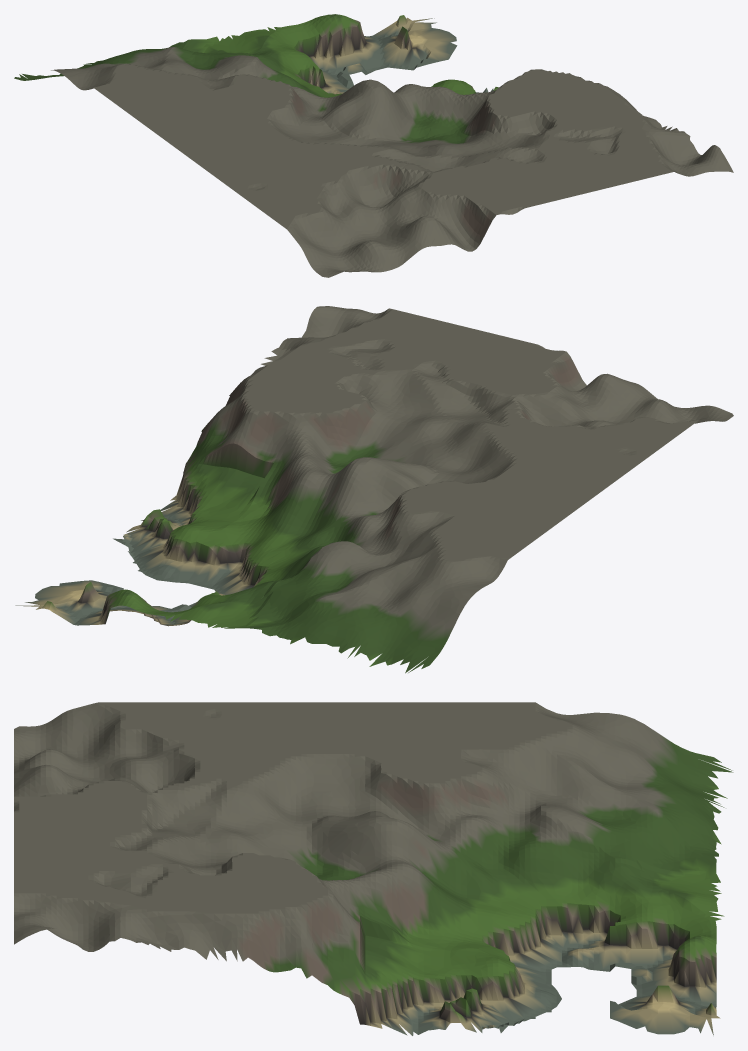
The model's file is coast_tile_x0z3_lod1.glb.
The picture shows the model from 3 angles, top to bottom: view 1: azimuth 30°, elevation 25°; view 2: azimuth 150°, elevation 25°; view 3: azimuth 270°, elevation 25°; orthographic projection. The views are drawn at different scales.
Parts seen in each view (by area): view 1: geometry_0; view 2: geometry_0; view 3: geometry_0.
Boxes of the visible parts, x1,y1,x2,y2 form: geometry_0: (14,14,733,277); geometry_0: (15,306,733,673); geometry_0: (14,702,733,1035).
Size of the model in its own units: 618 by 134 by 812.
